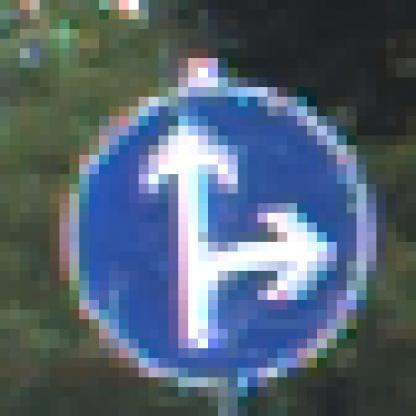Straight or Right: (61, 59, 368, 359)
